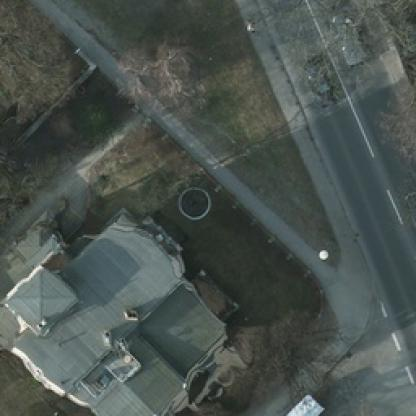car: (300, 55, 336, 122)
